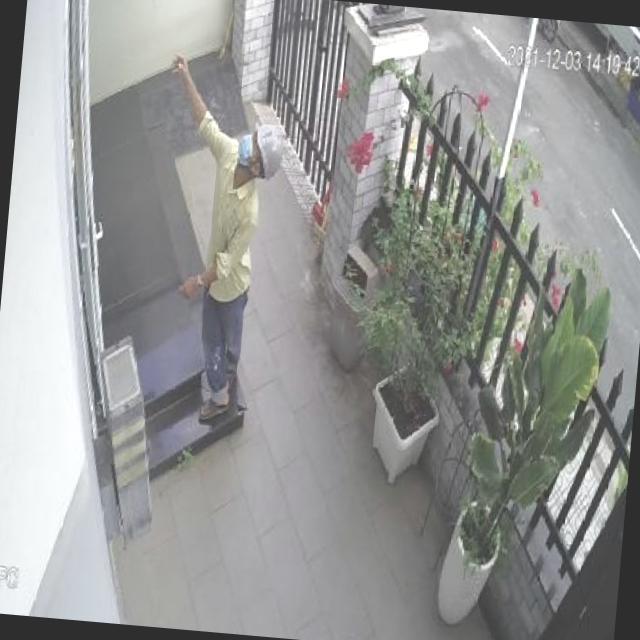Person: (139, 51, 291, 428)
